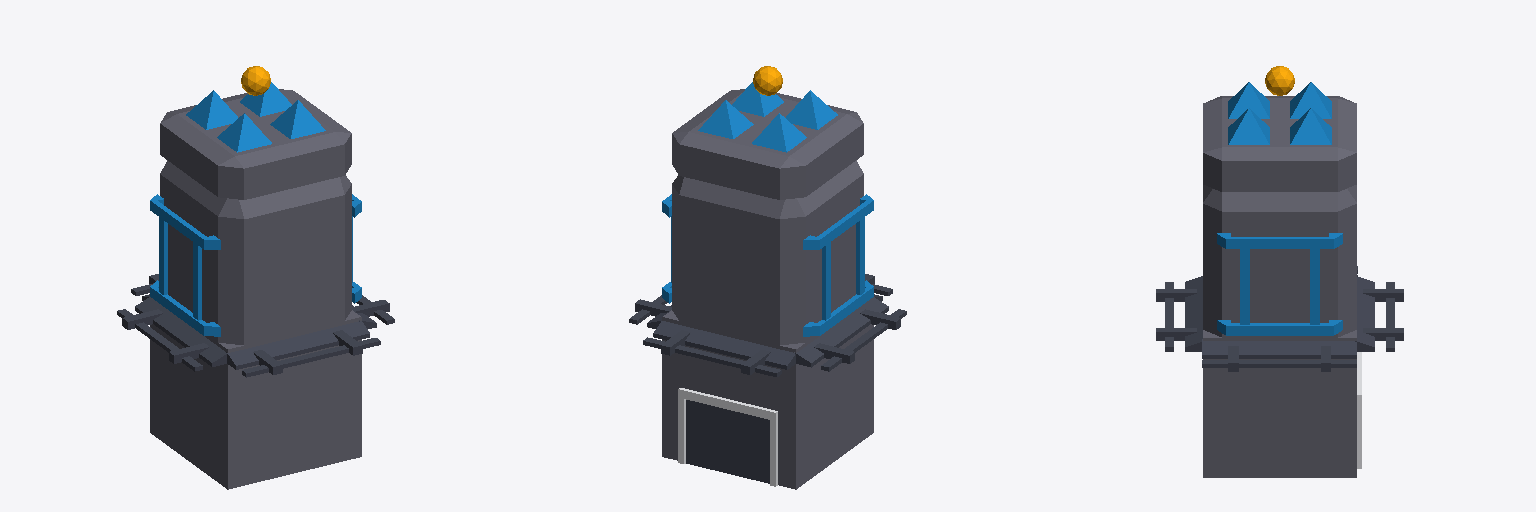
The model's file is photonTower.obj.
3 views of the same model, side by side, from view 1: azimuth 30°, elevation 25°; view 2: azimuth 150°, elevation 25°; view 3: azimuth 270°, elevation 25° (orthographic).
Size of the model in its own units: 1.61 by 2.7 by 1.61.